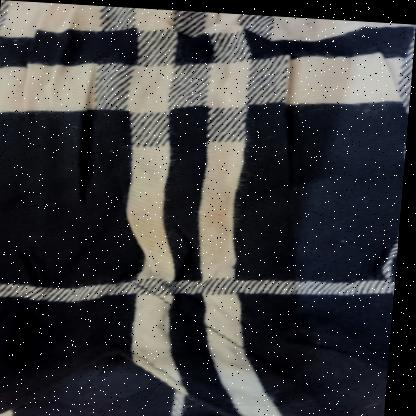spot: (119, 184, 244, 266)
